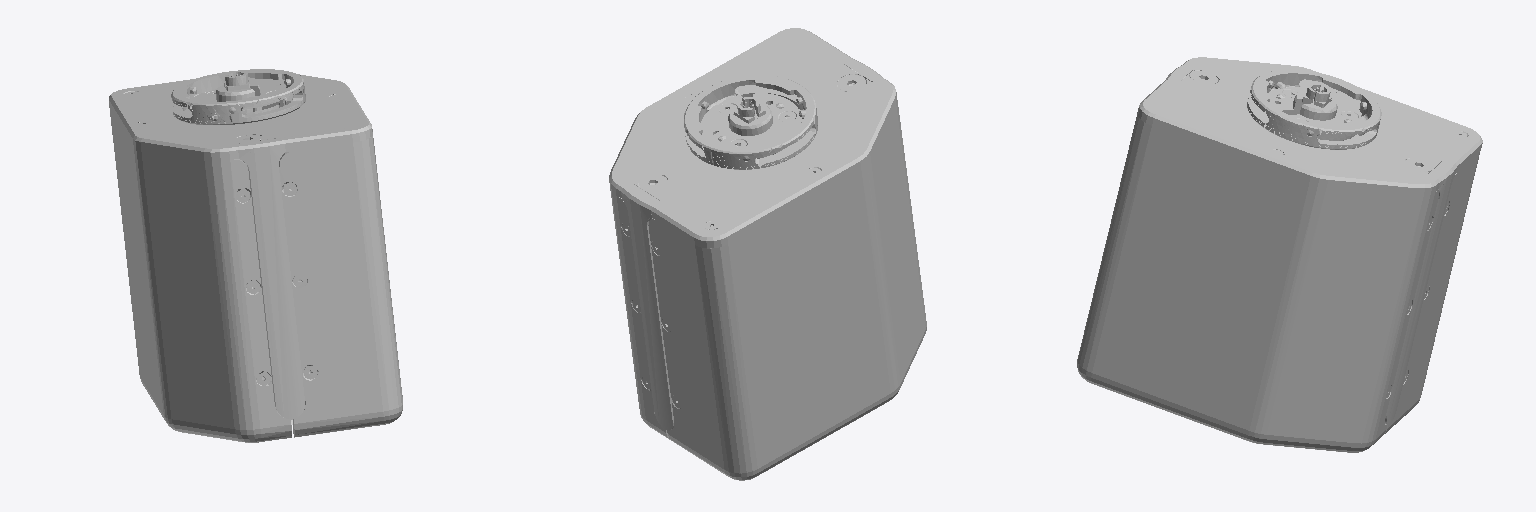
The model's file is gripper_link.obj.
3 renders of one model, left to right at view 1: azimuth 30°, elevation 25°; view 2: azimuth 150°, elevation 25°; view 3: azimuth 270°, elevation 25°, orthographic.
Visible parts, largest first — view 1: gripper_link; view 2: gripper_link; view 3: gripper_link.
Boxes of the visible parts, box(x1,y1,x2,y2) form: gripper_link: box(109, 69, 402, 442); gripper_link: box(609, 28, 926, 480); gripper_link: box(1077, 57, 1482, 452).
Size of the model in its own units: 0.0852 by 0.1259 by 0.1368.